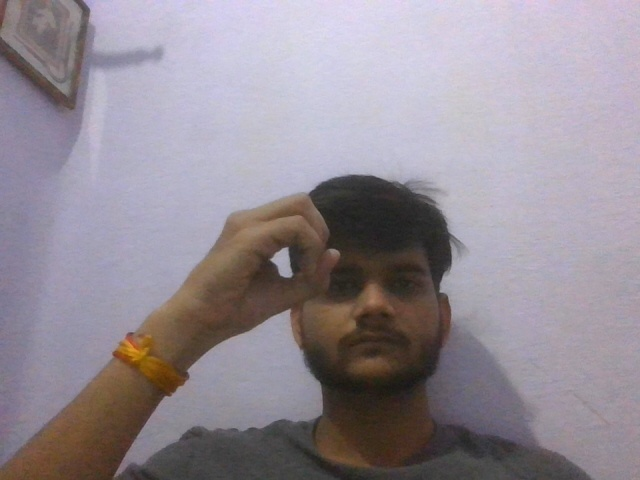no: (155, 189, 343, 332)
